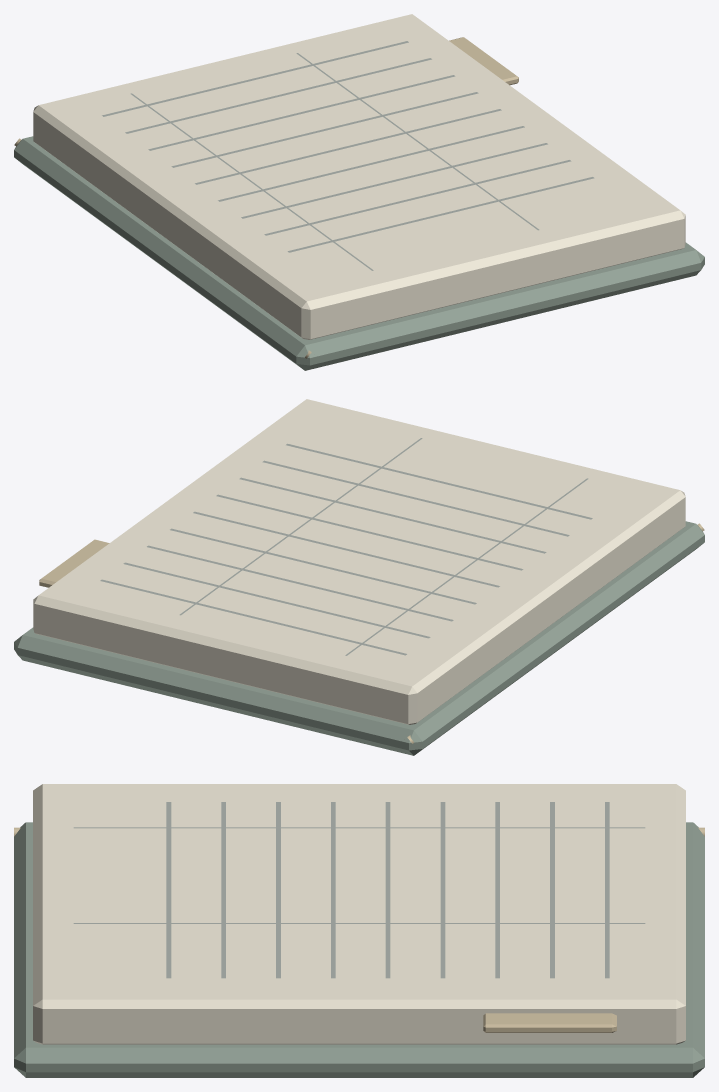
The model's file is resident-ledger.glb.
The picture shows the model from 3 angles, top to bottom: view 1: azimuth 30°, elevation 25°; view 2: azimuth 150°, elevation 25°; view 3: azimuth 270°, elevation 25°; orthographic projection. The views are drawn at different scales.
Parts seen in each view (by area): view 1: resident-ledger authored mesh; view 2: resident-ledger authored mesh; view 3: resident-ledger authored mesh.
Boxes of the visible parts, left/top/right/bottom form: resident-ledger authored mesh: left=14, top=14, right=704, bottom=370; resident-ledger authored mesh: left=14, top=399, right=704, bottom=755; resident-ledger authored mesh: left=14, top=784, right=704, bottom=1077.
Size of the model in its own units: 0.239 by 0.035 by 0.29.
